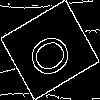O: (25, 25, 83, 82)
